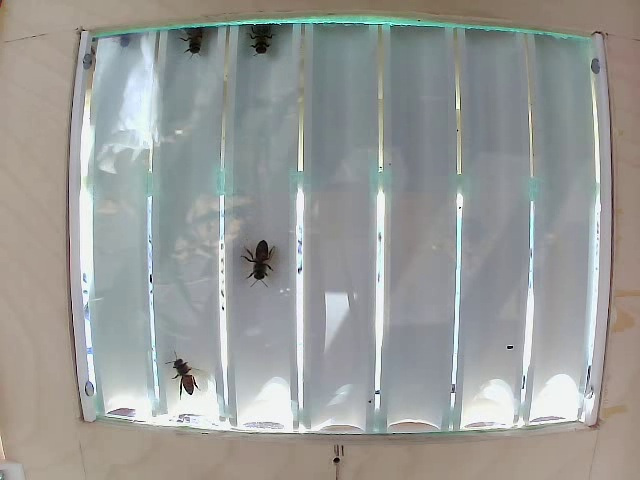bee: (238, 232, 286, 295), (163, 347, 206, 403), (245, 21, 281, 66)
